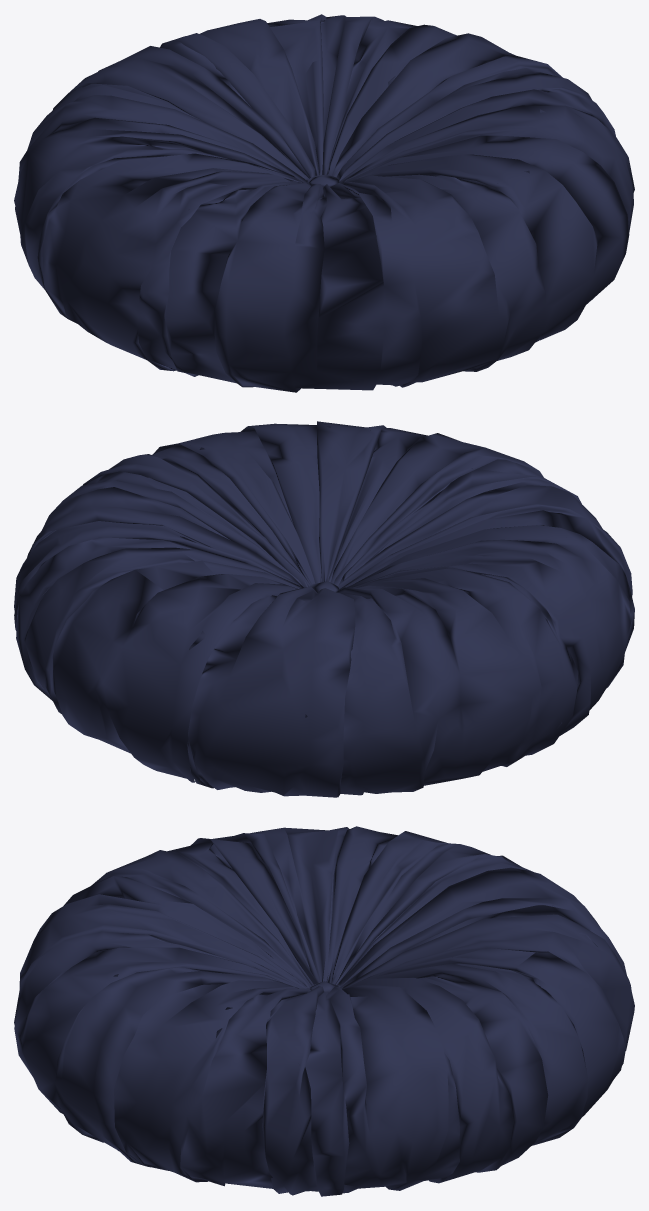
File: pouf.glb
3 views of the same model, one above another, from view 1: azimuth 30°, elevation 25°; view 2: azimuth 150°, elevation 25°; view 3: azimuth 270°, elevation 25° (orthographic).
Visible parts, largest first — view 1: SpecularSilkPouf; view 2: SpecularSilkPouf; view 3: SpecularSilkPouf.
Part boxes in pixels (x1=…): SpecularSilkPouf: x1=14, y1=14, x2=634, y2=392; SpecularSilkPouf: x1=14, y1=421, x2=634, y2=797; SpecularSilkPouf: x1=14, y1=826, x2=634, y2=1196.
Size of the model in its own units: 0.6087 by 0.1967 by 0.6097.
